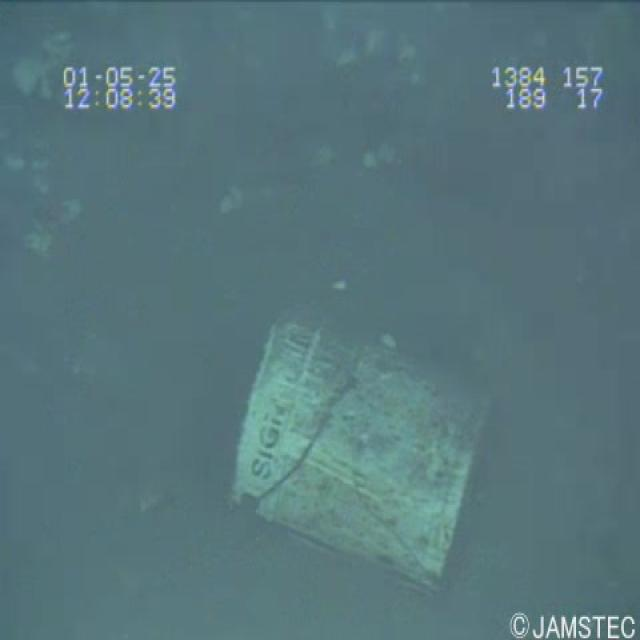plastic: (229, 292, 512, 612)
